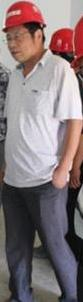boots: (0, 224, 10, 239), (0, 207, 9, 220)
hard-hat: (2, 1, 46, 32)
